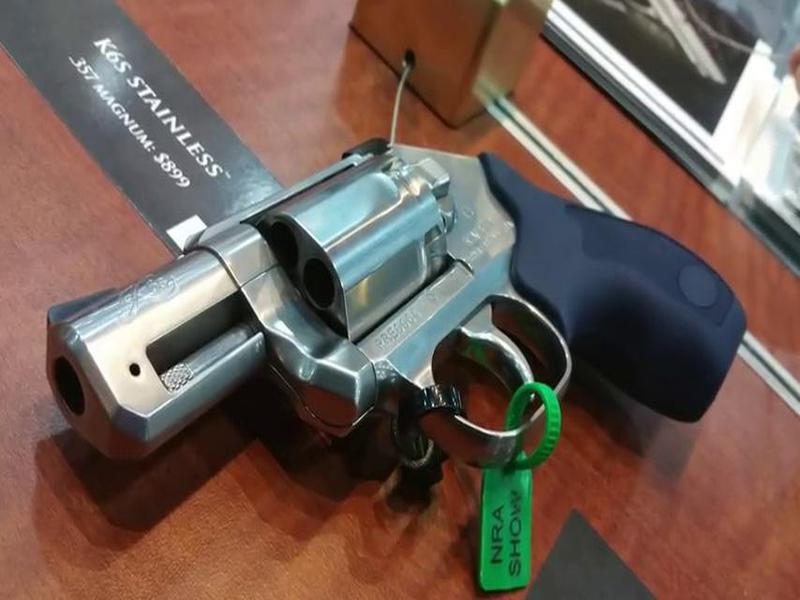Revolver: (51, 124, 739, 477)
